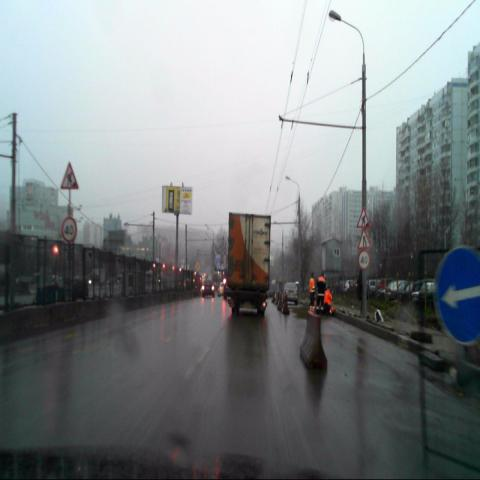4_1_2_2: (437, 246, 480, 344)
